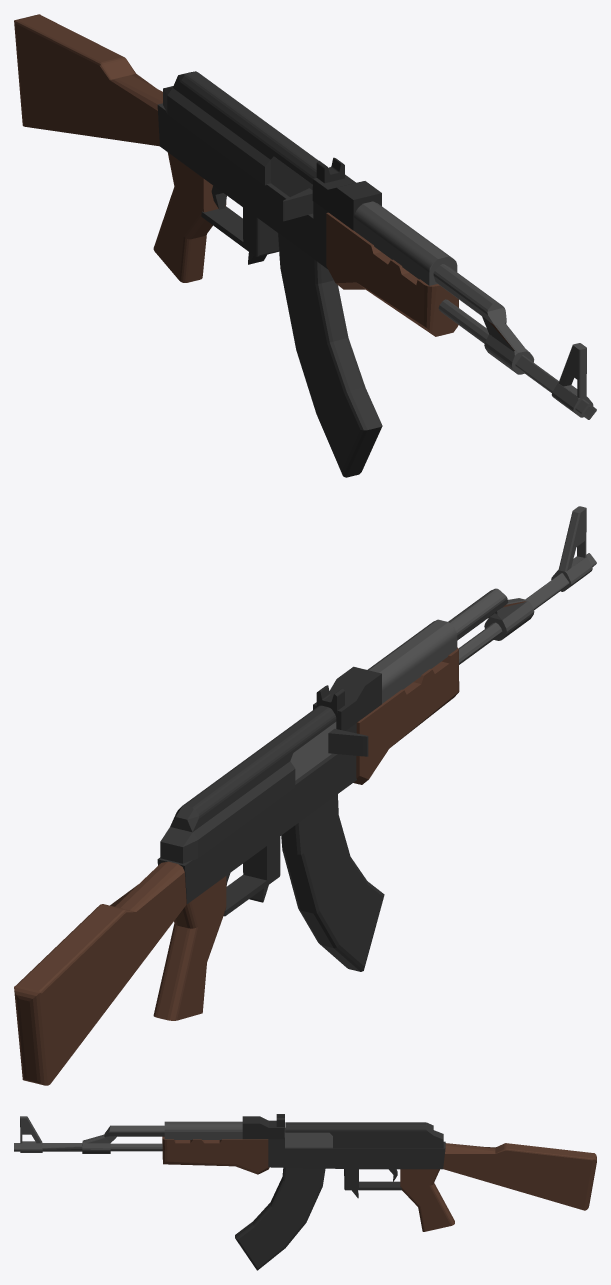
The picture shows the model from 3 angles, top to bottom: view 1: azimuth 30°, elevation 25°; view 2: azimuth 150°, elevation 25°; view 3: azimuth 270°, elevation 25°; orthographic projection. The views are drawn at different scales.
Visible parts, largest first — view 1: v_ak47_body2_model0; view 2: v_ak47_body2_model0; view 3: v_ak47_body2_model0.
Boxes of the visible parts, bbox=[...] form: v_ak47_body2_model0: bbox=[14, 14, 596, 477]; v_ak47_body2_model0: bbox=[14, 506, 596, 1085]; v_ak47_body2_model0: bbox=[14, 1114, 596, 1270].
Bounding box in the file's own units: 178 × 845 × 2907.
